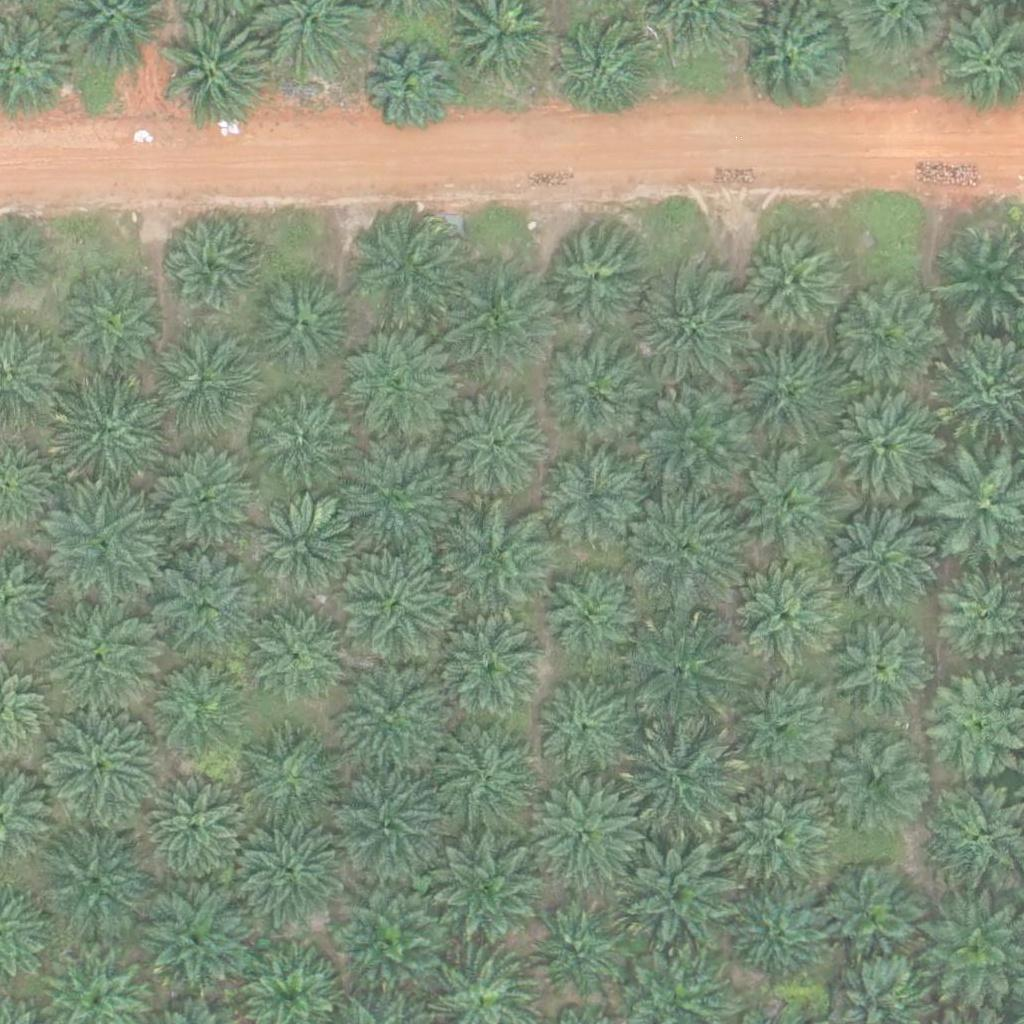Kelapa_Sawit: (736, 450, 849, 564), (623, 843, 736, 957), (429, 611, 542, 725), (829, 280, 942, 393), (830, 384, 943, 497), (823, 616, 936, 729), (818, 724, 931, 837), (815, 858, 928, 971), (716, 782, 829, 895), (727, 339, 840, 452), (641, 385, 754, 498), (621, 489, 734, 602), (539, 332, 652, 445), (432, 268, 545, 381), (433, 389, 546, 502), (426, 729, 539, 842), (346, 217, 459, 330), (339, 334, 452, 447), (343, 549, 456, 662), (336, 651, 449, 764), (231, 733, 344, 846), (46, 494, 159, 607), (41, 601, 154, 714), (46, 705, 159, 818), (34, 831, 147, 944), (734, 558, 846, 672), (537, 222, 649, 336), (429, 836, 541, 950), (334, 760, 446, 874), (52, 266, 164, 380), (824, 509, 936, 622), (727, 670, 839, 783), (635, 273, 747, 386), (628, 613, 740, 726), (629, 726, 741, 839), (530, 779, 642, 892), (448, 501, 560, 614), (341, 445, 453, 558), (252, 496, 364, 609), (237, 809, 349, 922), (140, 886, 252, 999), (151, 545, 263, 658), (51, 381, 163, 494), (734, 1, 846, 114), (161, 18, 273, 131), (730, 891, 830, 992), (737, 233, 837, 334), (532, 904, 632, 1005), (532, 671, 632, 772), (545, 455, 645, 556), (255, 269, 355, 370), (254, 398, 354, 499), (247, 607, 347, 708), (146, 659, 246, 760), (156, 446, 256, 547), (551, 23, 651, 124), (539, 570, 639, 670), (333, 887, 433, 987), (146, 778, 246, 878), (149, 333, 249, 433), (160, 216, 260, 316), (364, 47, 451, 135)
